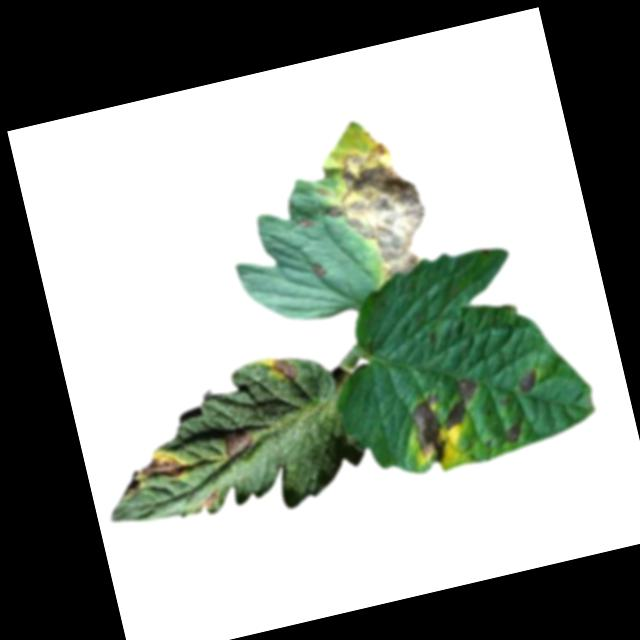Early_blight: (311, 137, 440, 292), (404, 374, 492, 465), (136, 446, 193, 488), (219, 425, 261, 463), (271, 355, 301, 386), (503, 420, 530, 445), (516, 371, 542, 394), (198, 488, 221, 511), (297, 215, 319, 234), (310, 262, 329, 282)
